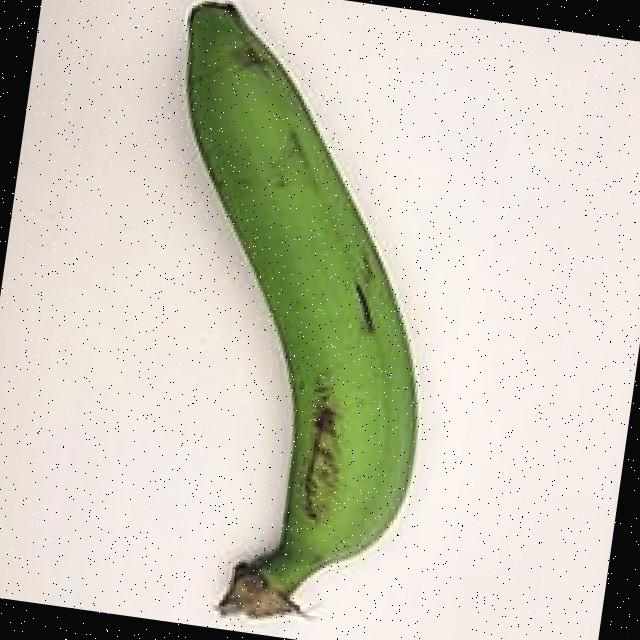Raw: (76, 0, 502, 640)
